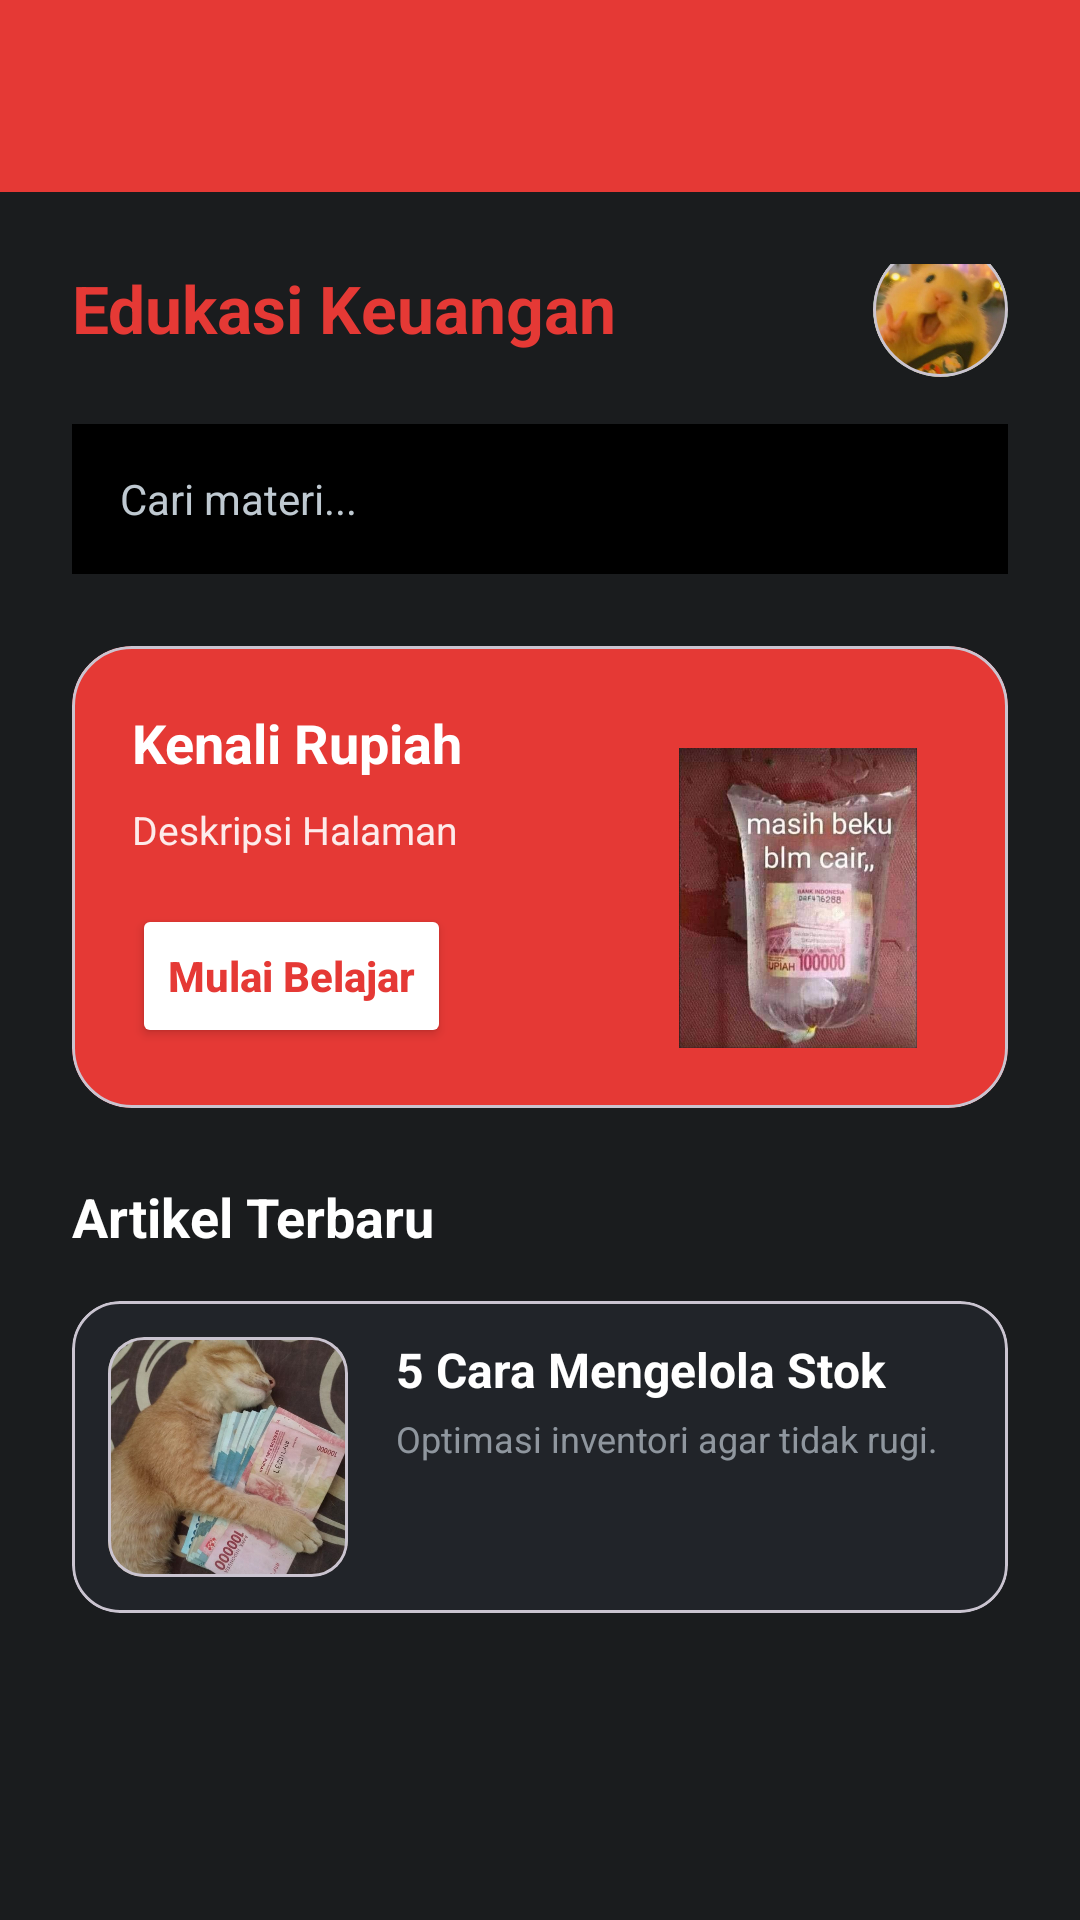

Icon click points for this 1080px×1920px phone screenshot, format (x,y):
profil: (940,320)
